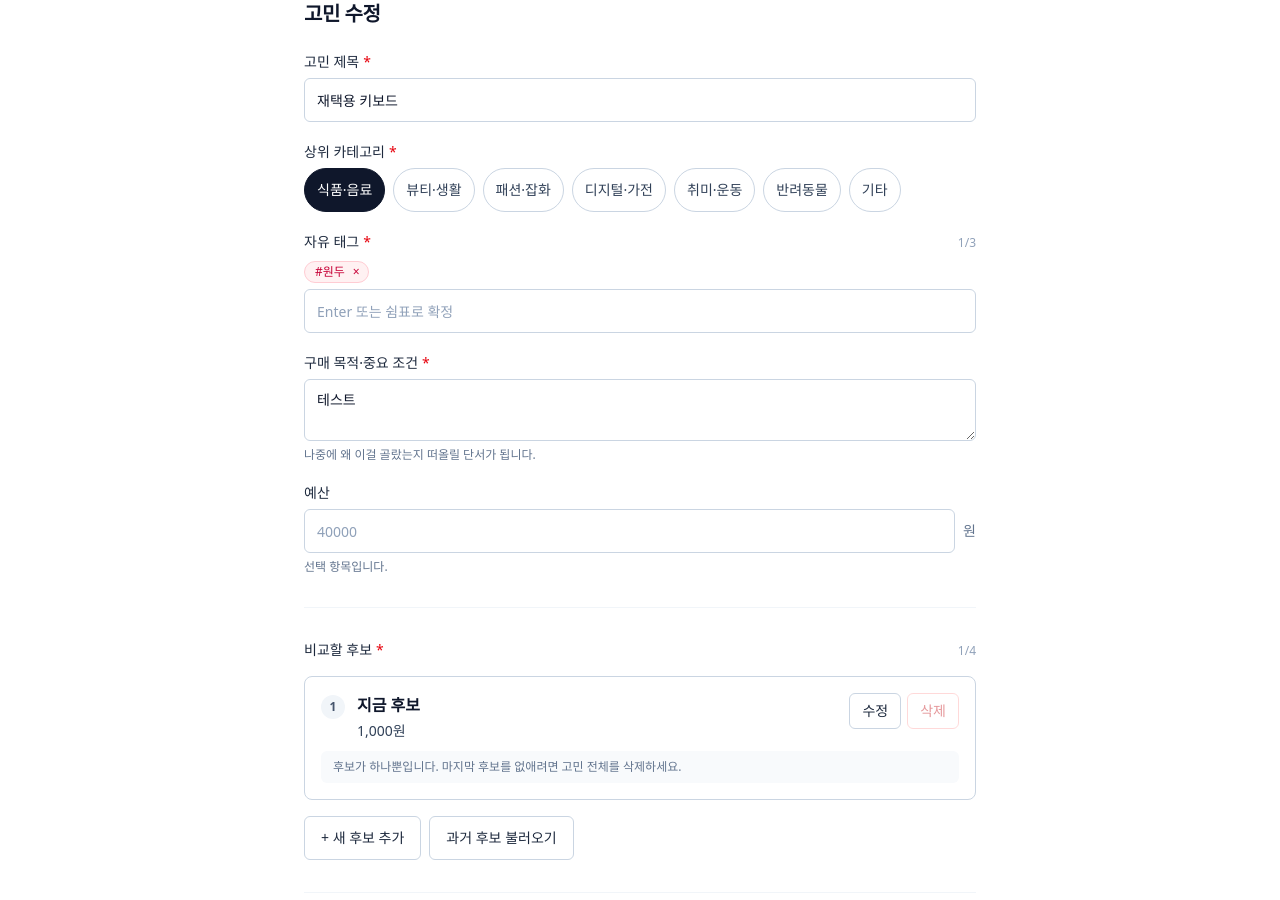
블록 48 — 불러오기 목록 › 다른 고민의 후보만 보인다
Click the button "과거 후보 불러오기" at (501, 838), box 429,816 -> 574,860
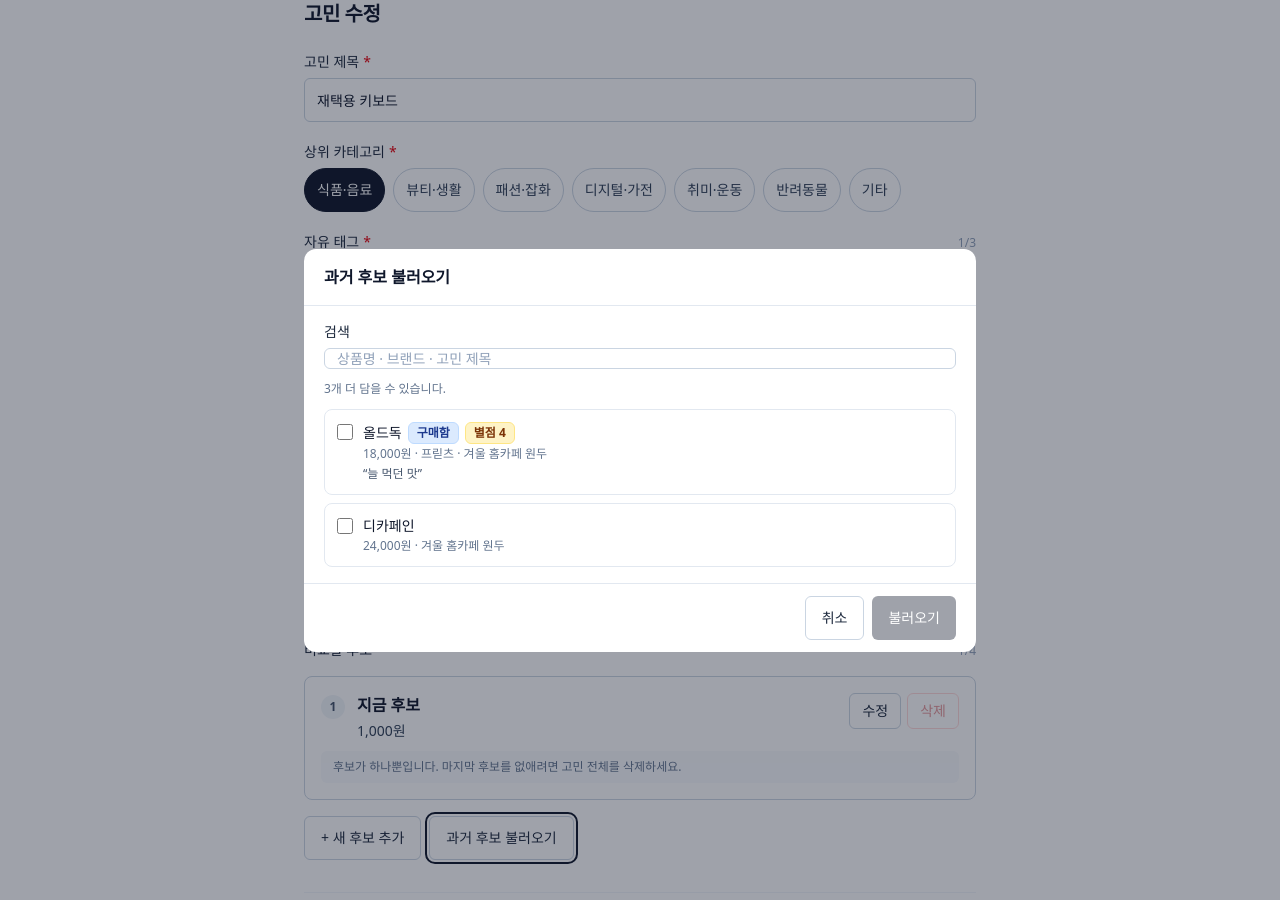
Result: the text "올드독" is shown at 363,422 -> 402,442
Result: the text "디카페인" is shown at 363,516 -> 414,536
